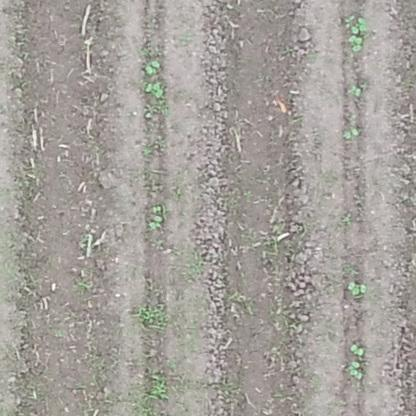vc: (350, 15, 370, 34), (347, 360, 366, 380), (147, 214, 165, 232), (346, 280, 369, 294), (145, 84, 167, 98), (143, 58, 160, 76), (343, 123, 360, 141), (349, 340, 366, 357), (347, 36, 365, 52), (347, 85, 363, 95)
